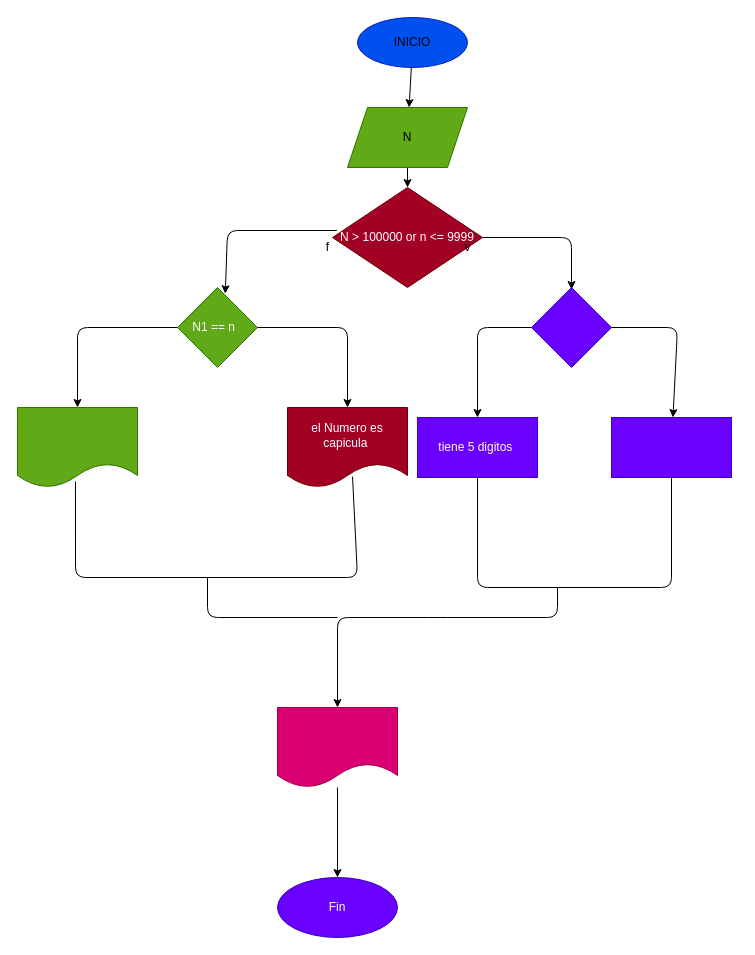
Image size: 755x955. Some labels were removed from this diagram. Each missing label, with the centre of its shape:
"El numero" goes at [571,327].
"El numero no es capicula" goes at [77,447].
"no tiene 5 digitos" goes at [671,447].
"numero de 5 digitos- capicula" goes at [337,747].
